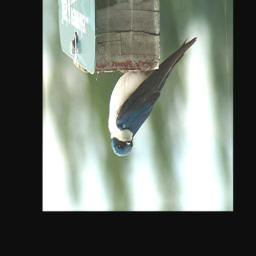Swallow: (105, 35, 202, 158)
